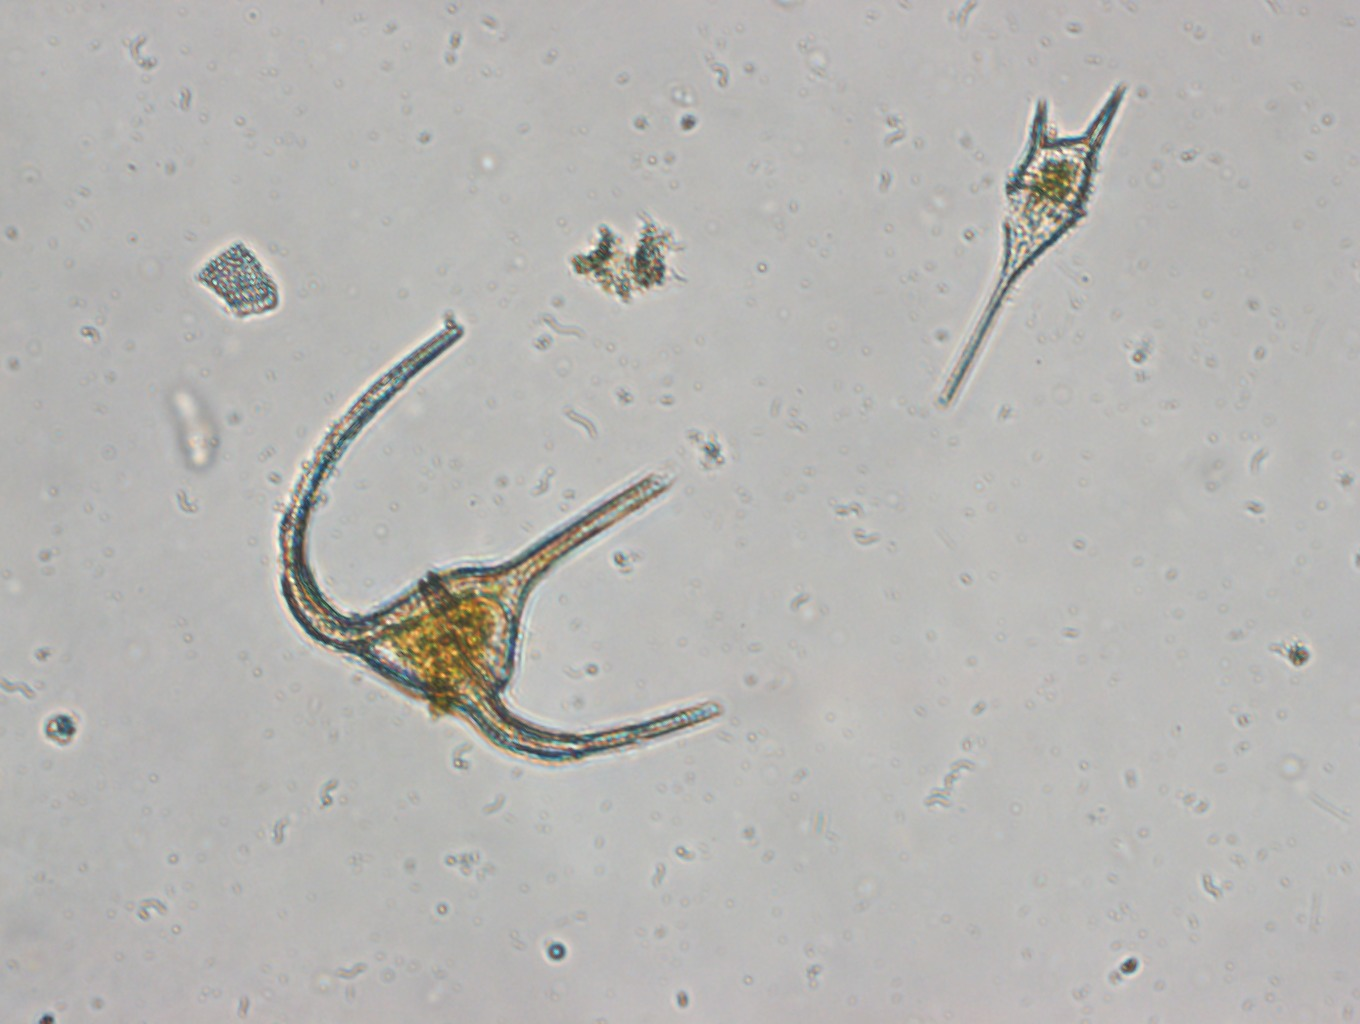ceratium furca: (936, 76, 1129, 410)
ceratium trichoceros: (272, 310, 731, 774)
